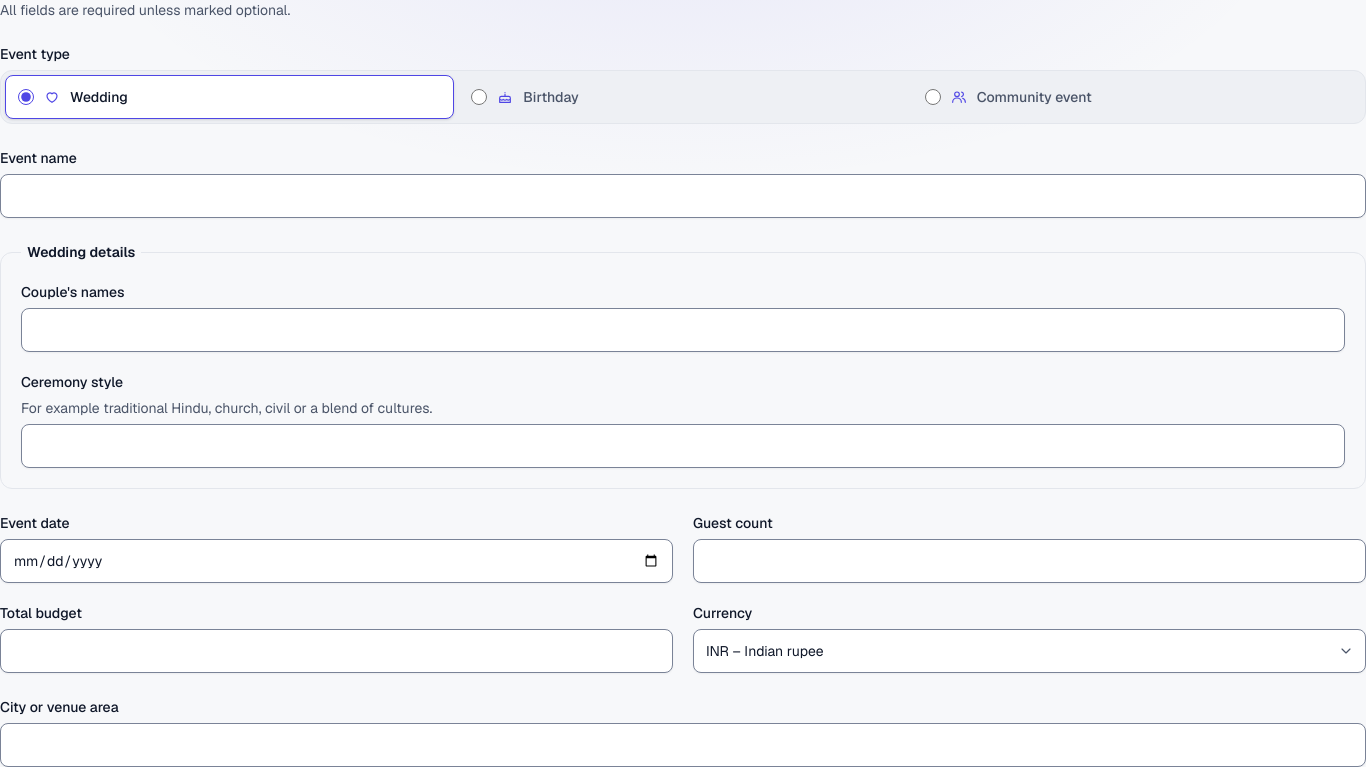
Test: IntakeForm event details › shows only the selected event type's details fieldset
The width and height of the screenshot is (1366, 767).
Expected: the element "Birthday details" is not shown
Click the radio button labelled "Birthday": (479, 97) [471, 89, 487, 105]
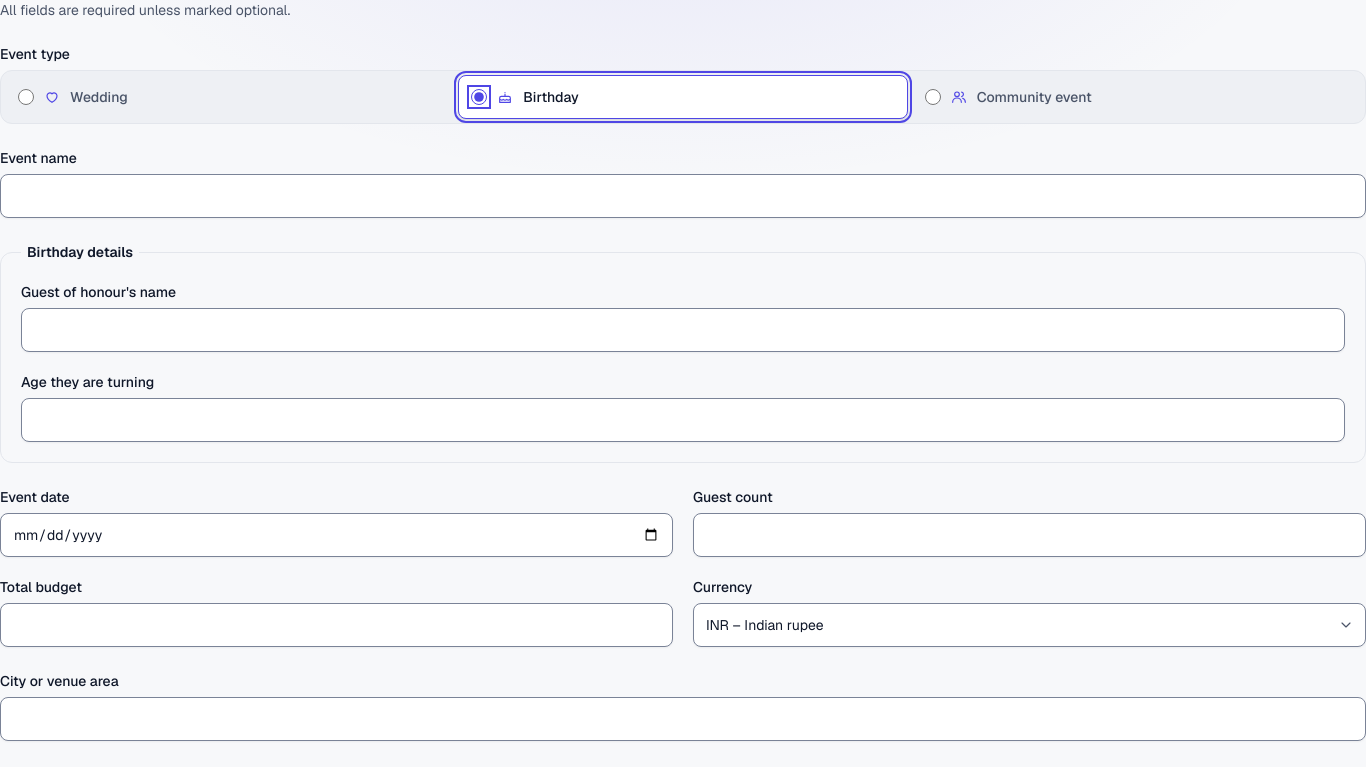
Expected: the text "Wedding details" is gone
Expected: the label labelled "Couple's names" is gone
Click the radio button labelled "Community event": (933, 97) [925, 89, 941, 105]
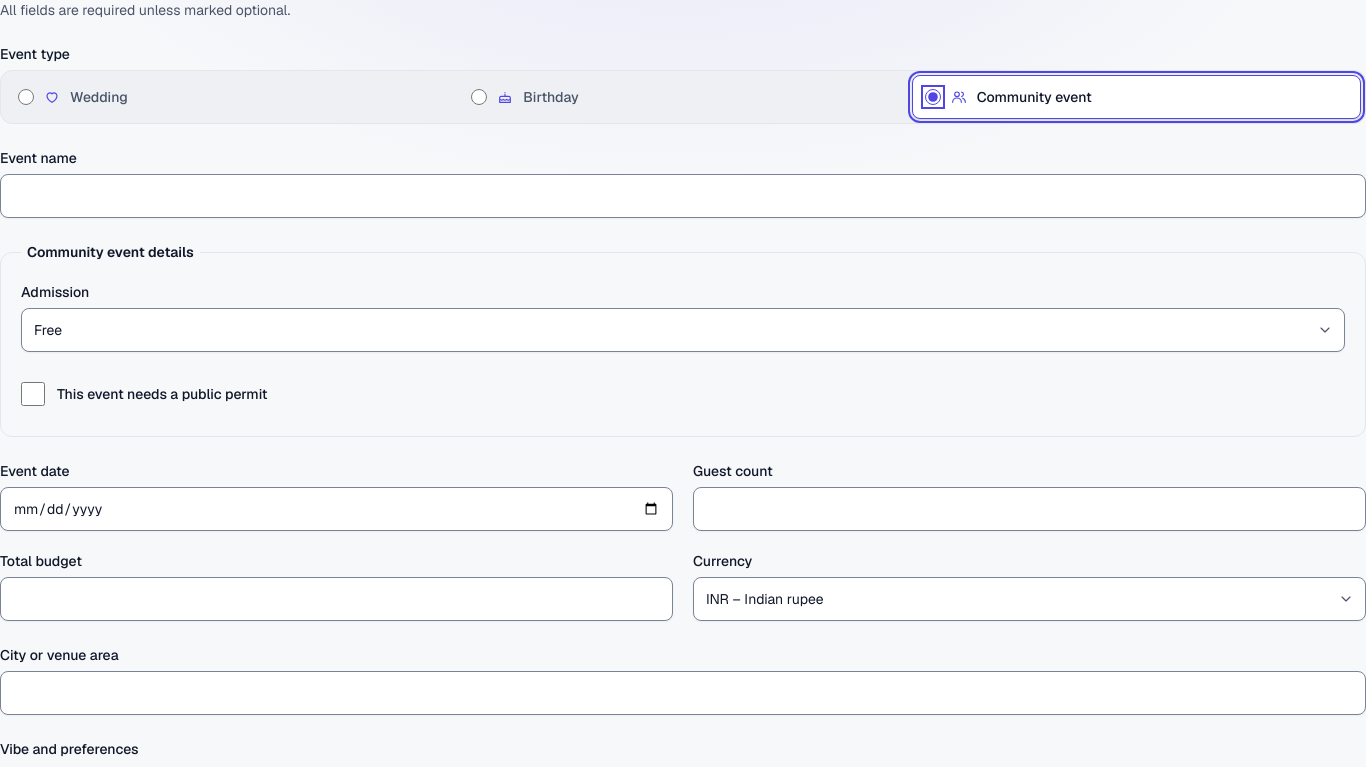
Expected: the dropdown labelled "Admission" shows "Free", [21, 308, 1345, 352]
Expected: the checkbox labelled "This event needs a public permit" is not checked, [21, 382, 45, 406]
Expected: the text "Birthday details" is gone
